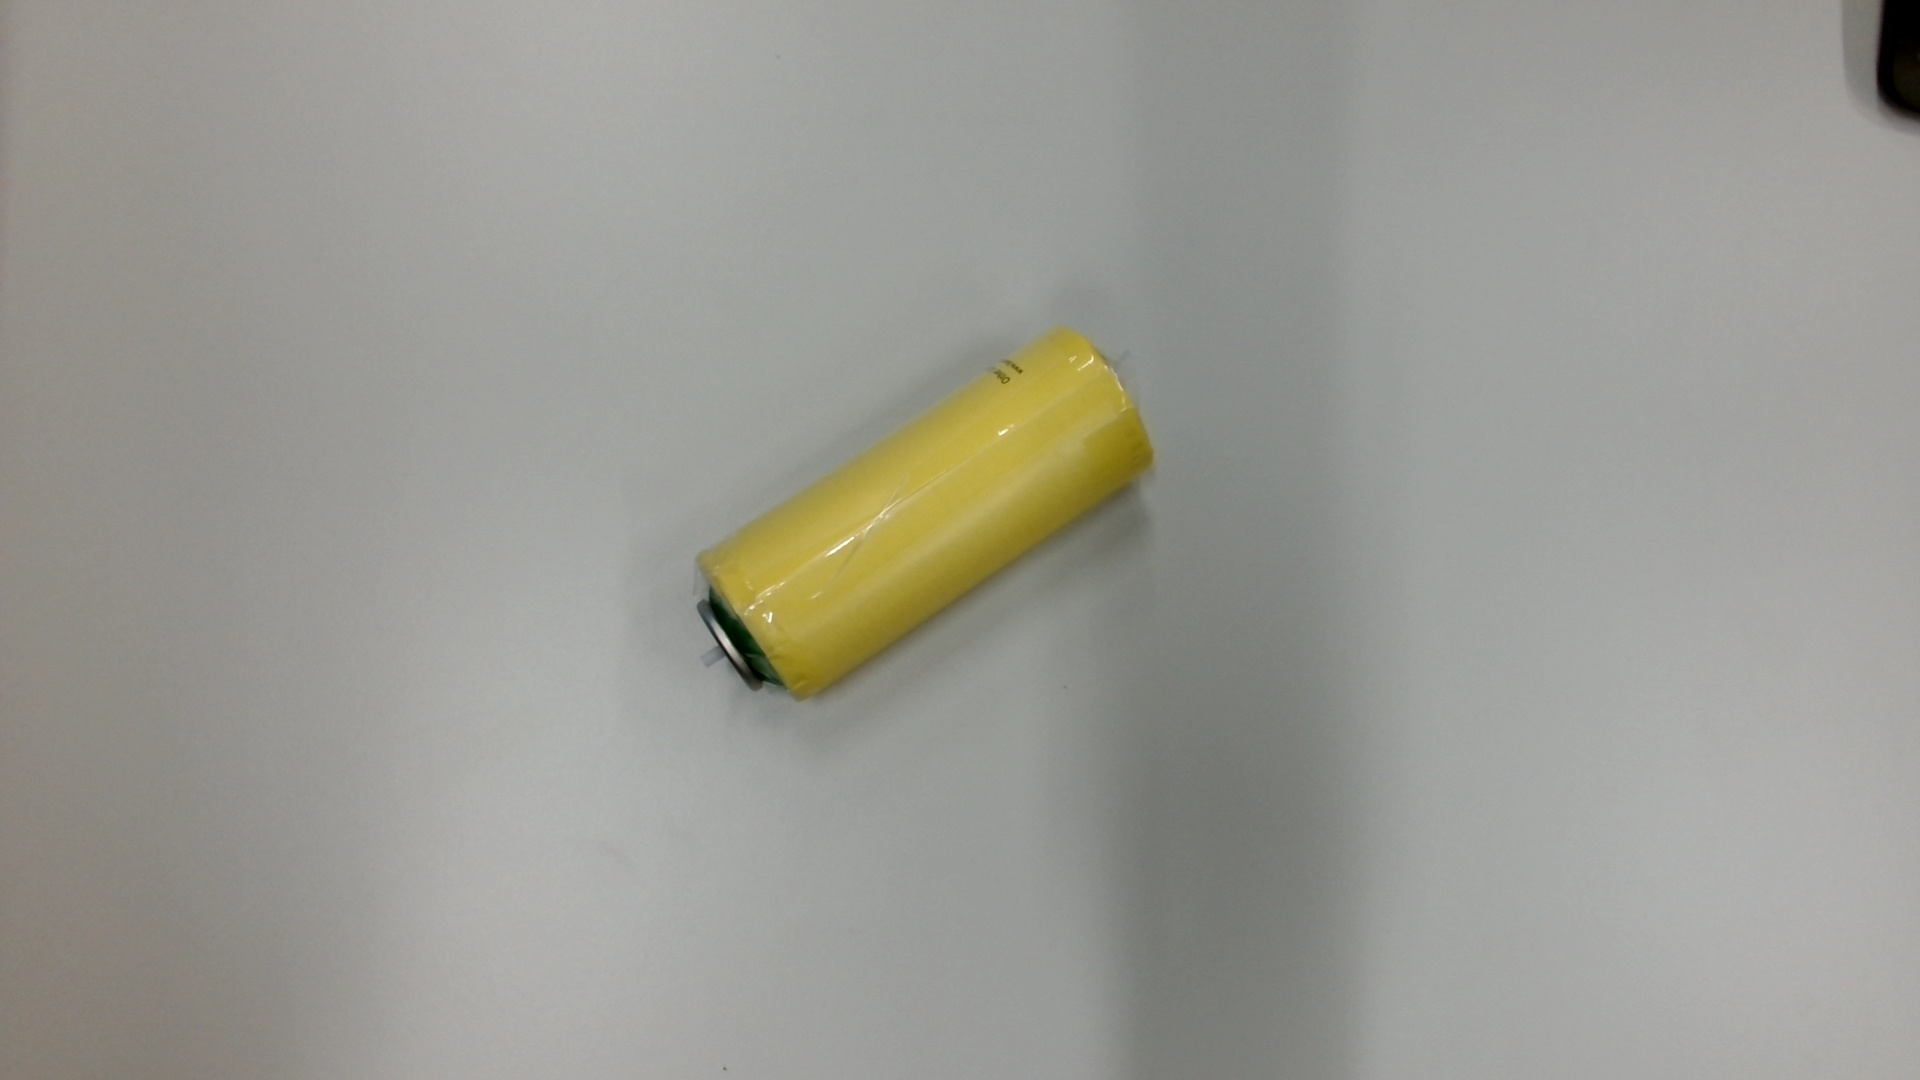Cylinder: (684, 316, 1170, 727)
